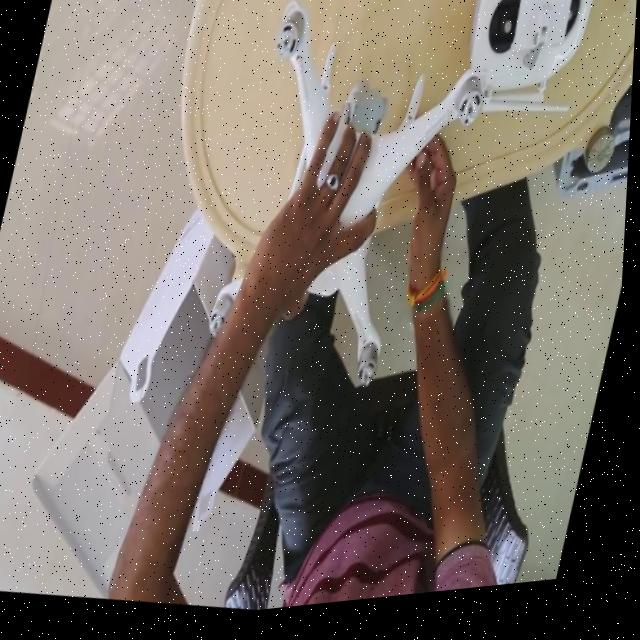drones: (132, 0, 504, 428)
